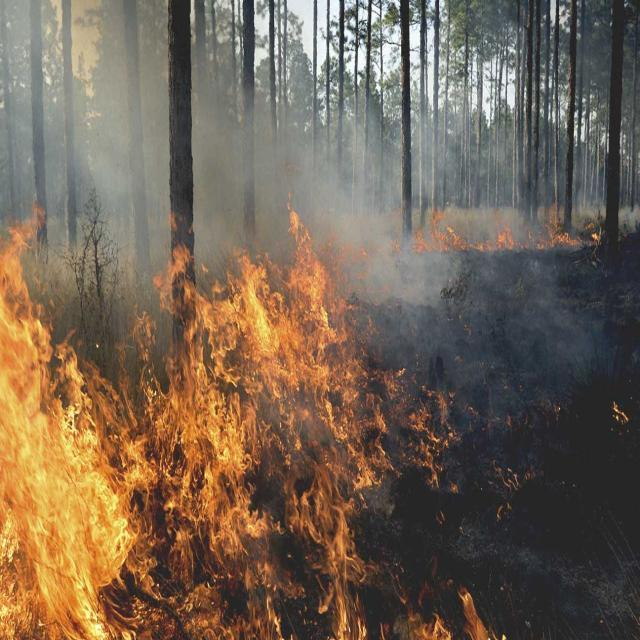Fire: (224, 243, 495, 640), (0, 208, 215, 639), (366, 214, 600, 260)
Smoke: (193, 96, 423, 258), (9, 16, 182, 202)
